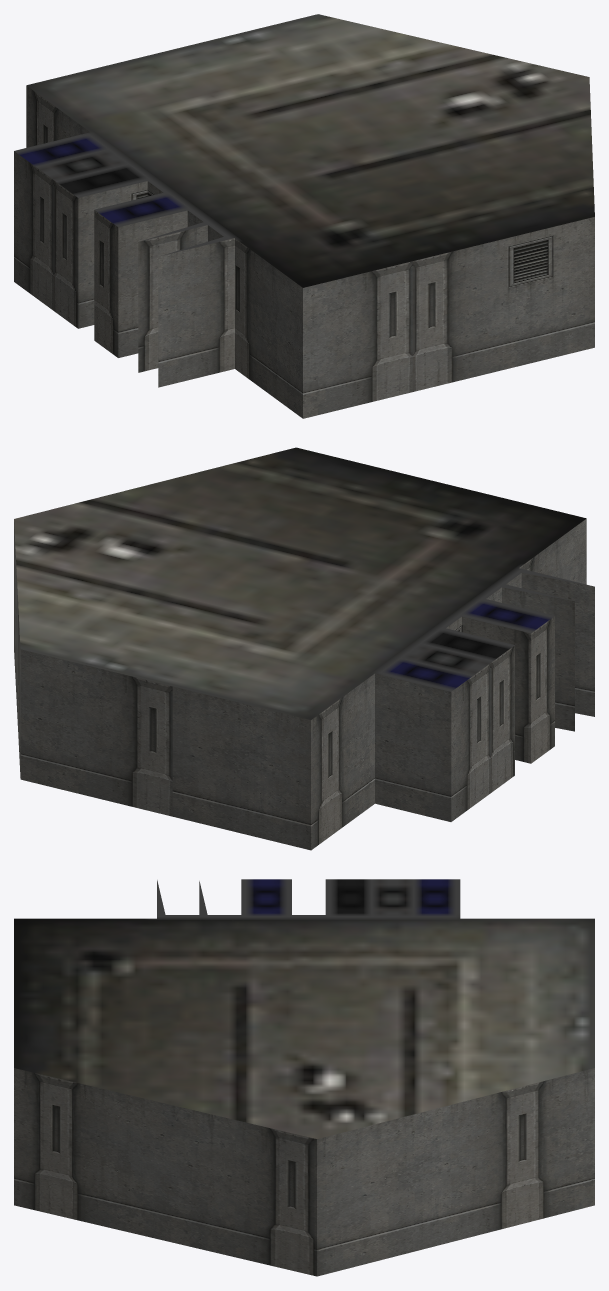
The model's file is BuildingSystem-03-Advance-04-ReinforcedLow-9-100-01.glb.
3 views of the same model, one above another, from view 1: azimuth 30°, elevation 25°; view 2: azimuth 150°, elevation 25°; view 3: azimuth 270°, elevation 25° (orthographic). The views are drawn at different scales.
Parts seen in each view (by area): view 1: buildings/saxarba/SMV_Buildings/BuildingSystem-03-Advance-04; view 2: buildings/saxarba/SMV_Buildings/BuildingSystem-03-Advance-04; view 3: buildings/saxarba/SMV_Buildings/BuildingSystem-03-Advance-04.
Part boxes in pixels (x1,y1,x2,y2): buildings/saxarba/SMV_Buildings/BuildingSystem-03-Advance-04: (14, 14, 594, 418); buildings/saxarba/SMV_Buildings/BuildingSystem-03-Advance-04: (14, 447, 594, 850); buildings/saxarba/SMV_Buildings/BuildingSystem-03-Advance-04: (14, 879, 594, 1276).
Bounding box in the file's own units: 73 × 18 × 69.
